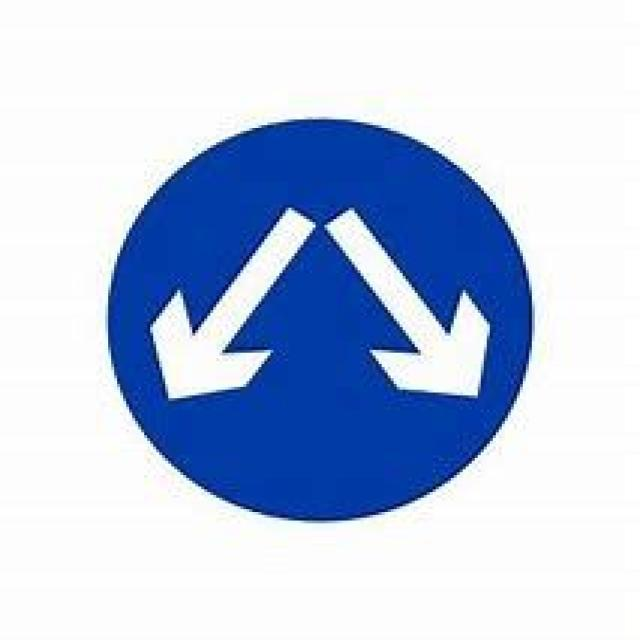pass either side: (104, 118, 534, 522)
